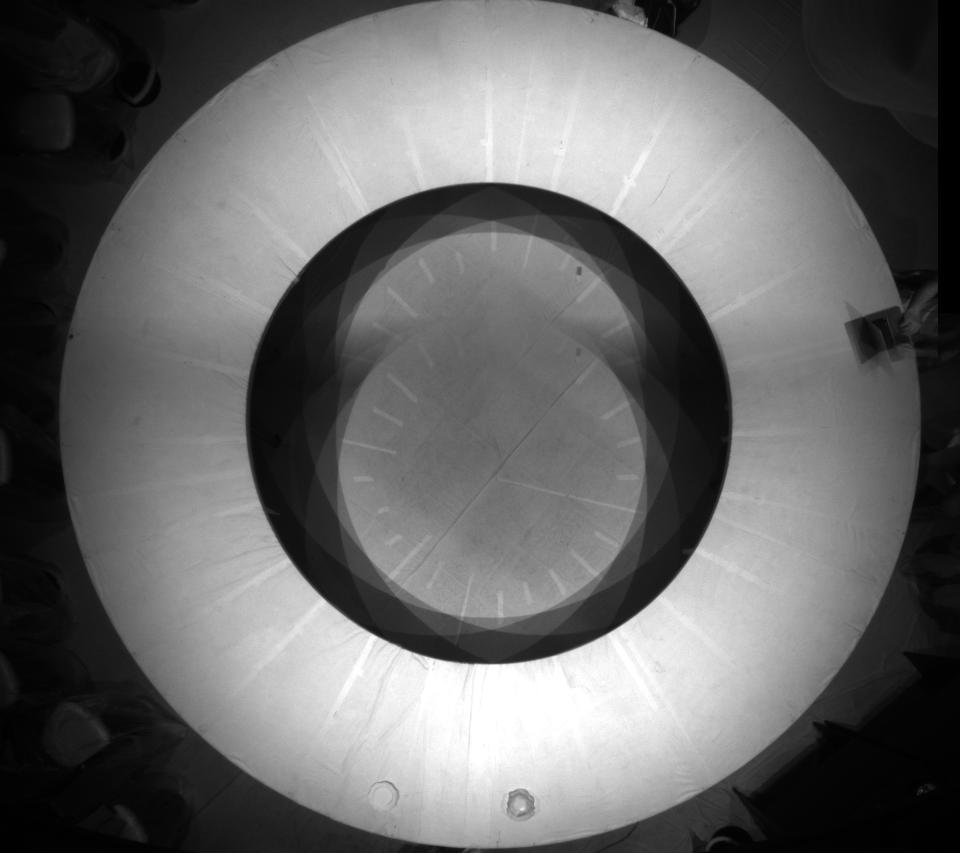Plate: (363, 777, 403, 815)
